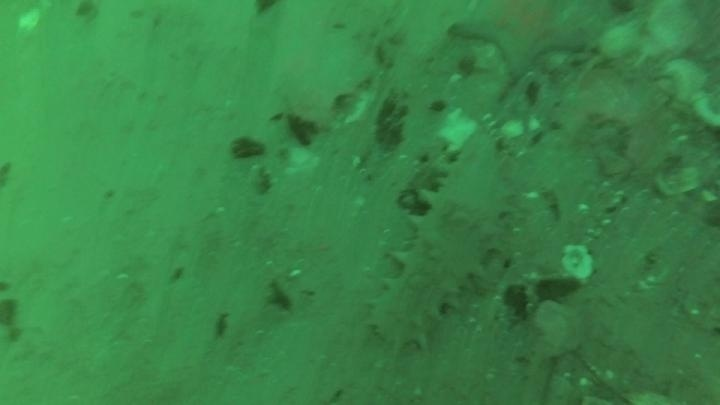holothurian: (366, 125, 514, 355)
starfish: (448, 1, 593, 79)
